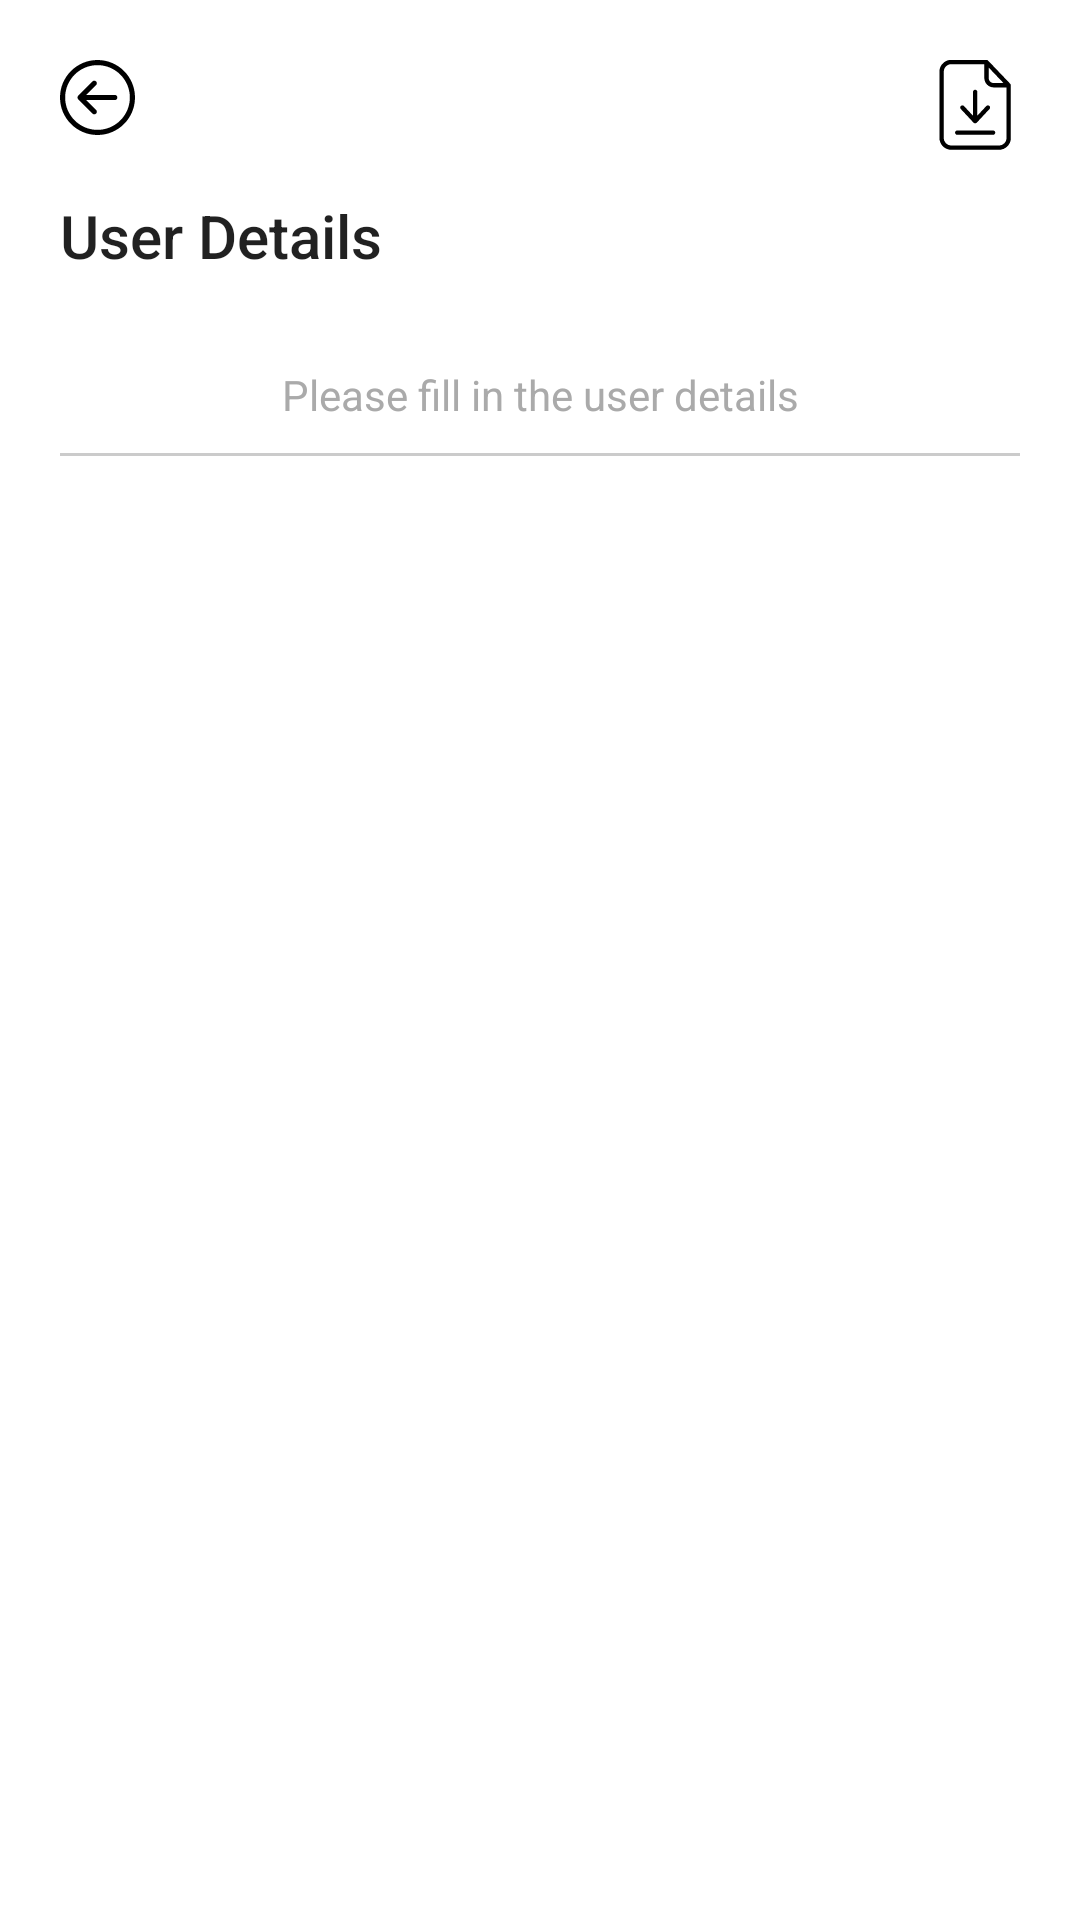

Where icons sit on this 1080px×1920px app screen, as {"left": x1, "top": y1, "right": x2, "bottom": y2}:
back: {"left": 60, "top": 60, "right": 135, "bottom": 135}
file download: {"left": 939, "top": 60, "right": 1011, "bottom": 150}
